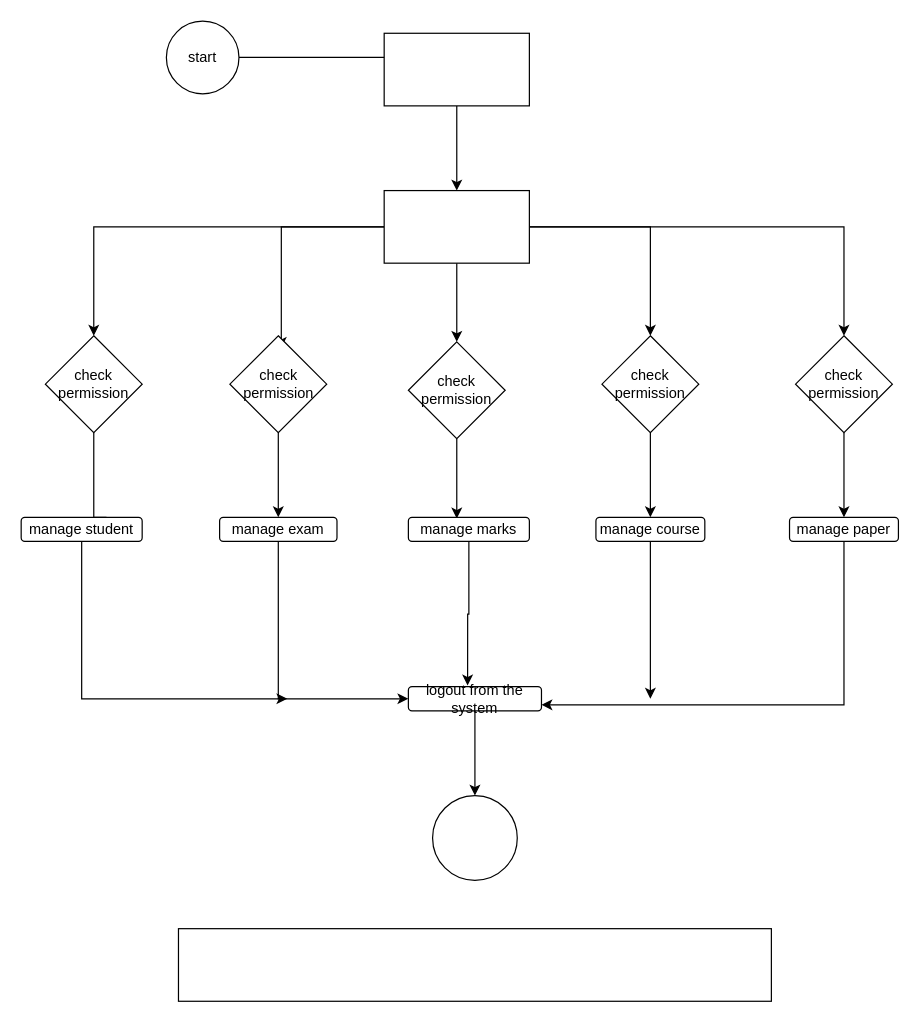
The diagram is 920 pixels wide and 1022 high, and some of its shapes have lost their labels. Each missing label, with the centre of its shape:
"Activity Diagram for the examination management system" belongs at (x=474, y=964).
"check user level and permissions" belongs at (x=456, y=226).
"end" belongs at (x=474, y=837).
"login to the examination management system" belongs at (x=456, y=69).
